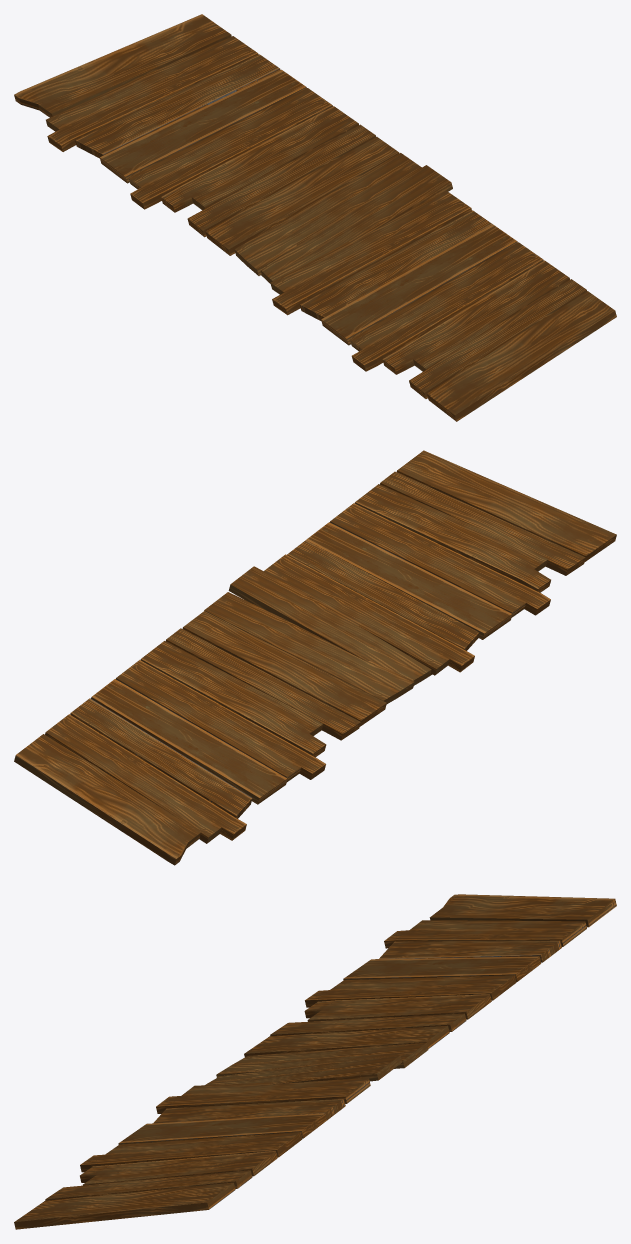
3 views of the same model, one above another, from view 1: azimuth 30°, elevation 25°; view 2: azimuth 150°, elevation 25°; view 3: azimuth 330°, elevation 25° (orthographic).
Parts seen in each view (by area): view 1: Cube.924; view 2: Cube.924; view 3: Cube.924.
Part boxes in pixels (left/top/right/bottom): Cube.924: left=14, top=14, right=616, bottom=421; Cube.924: left=14, top=450, right=616, bottom=865; Cube.924: left=14, top=894, right=616, bottom=1229.
Bounding box in the file's own units: 301 × 102 × 1176.
1 material, 1 textured.
